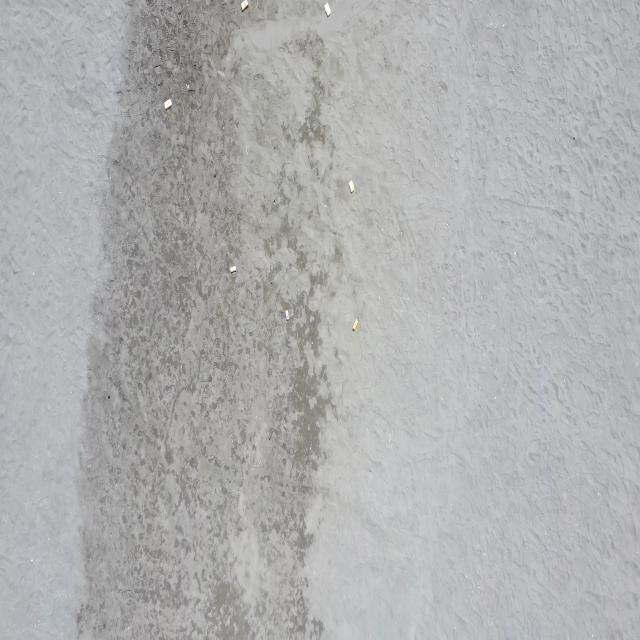retort-pouch: (322, 2, 332, 18), (347, 179, 357, 194), (164, 98, 174, 111), (241, 1, 250, 12), (352, 320, 359, 332), (229, 265, 237, 274), (285, 309, 290, 322)
